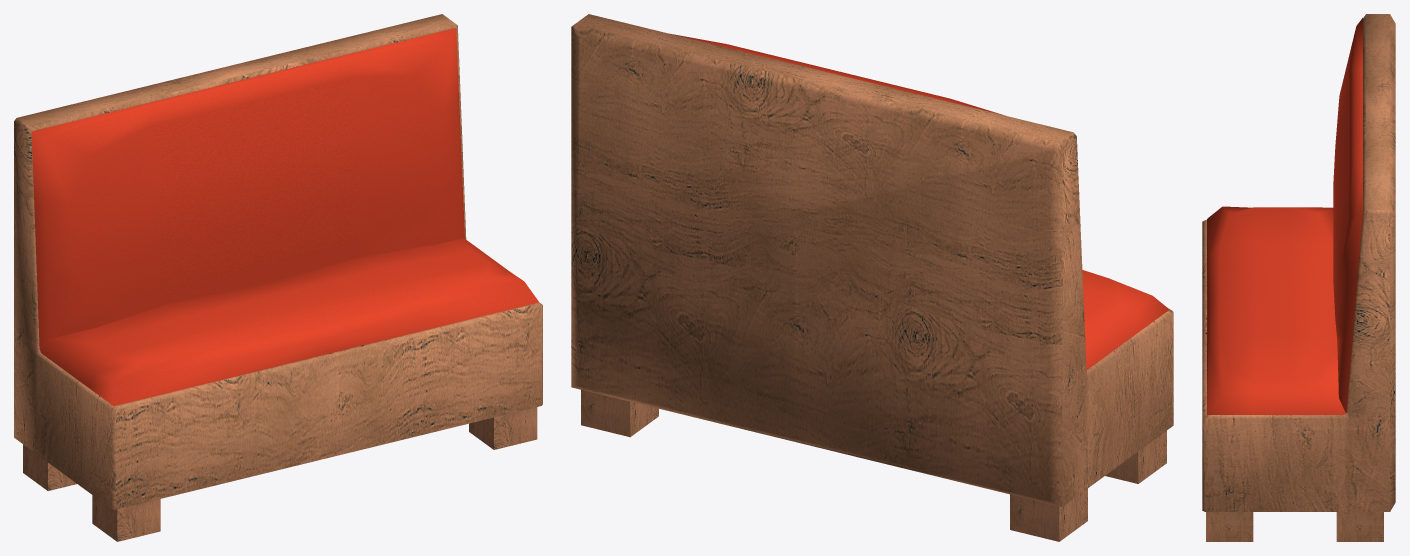
The model's file is Booth Red.fbx.
3 views of the same model, side by side, from view 1: azimuth 30°, elevation 25°; view 2: azimuth 150°, elevation 25°; view 3: azimuth 270°, elevation 25° (orthographic). The views are drawn at different scales.
Parts seen in each view (by area): view 1: Booth Red; view 2: Booth Red; view 3: Booth Red.
Part boxes in pixels (x1,y1,x2,y2): Booth Red: [14, 14, 542, 541]; Booth Red: [571, 14, 1173, 541]; Booth Red: [1202, 14, 1395, 541].
Size of the model in its own units: 91.28 by 71.5 by 37.55.
